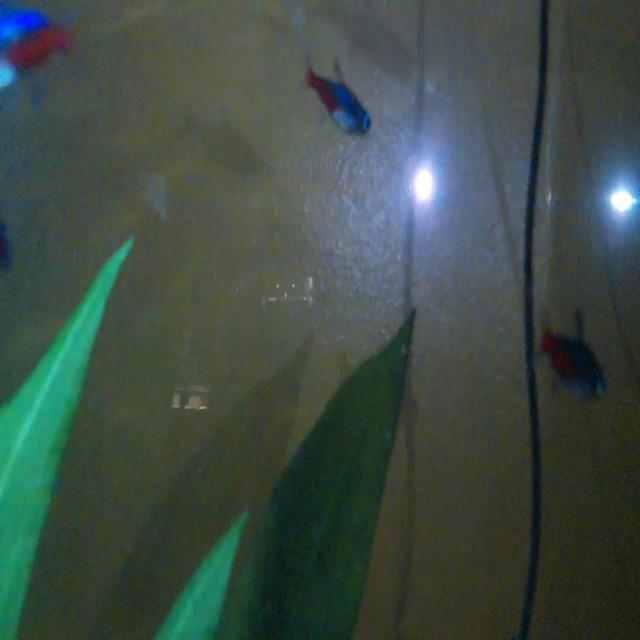fish: (295, 50, 376, 155)
